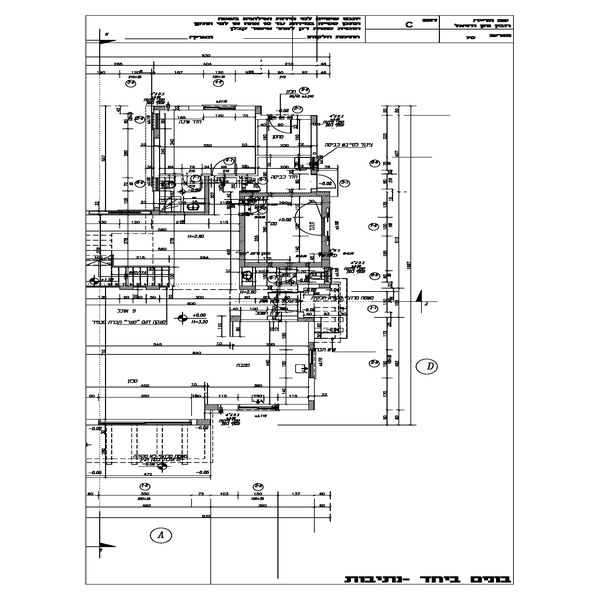room: (226, 316, 318, 409), (233, 190, 331, 271)
